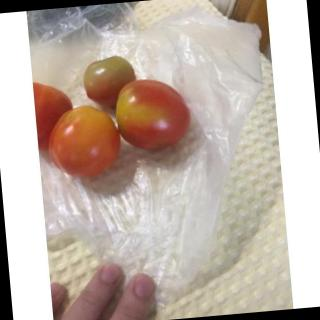Tomat: (31, 53, 206, 176)
